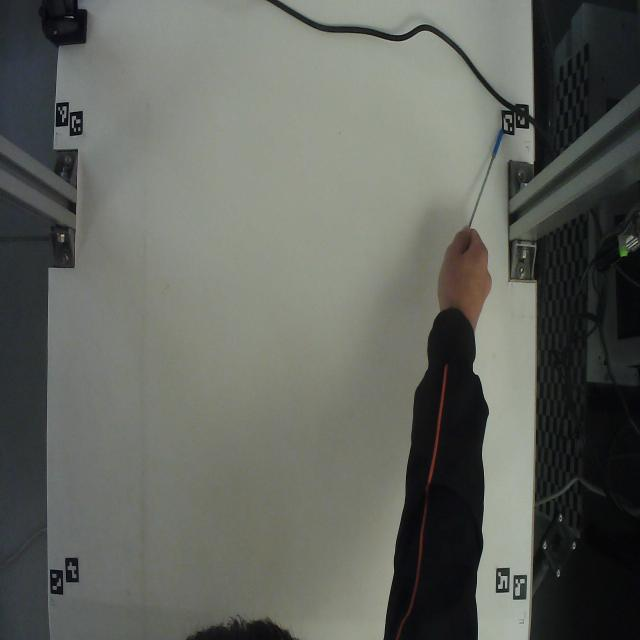Pres: (455, 118, 506, 240)
